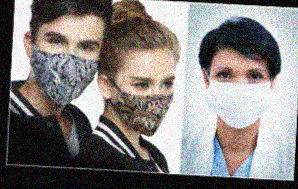with_mask: (29, 28, 99, 106), (207, 63, 270, 130), (113, 70, 174, 137)
